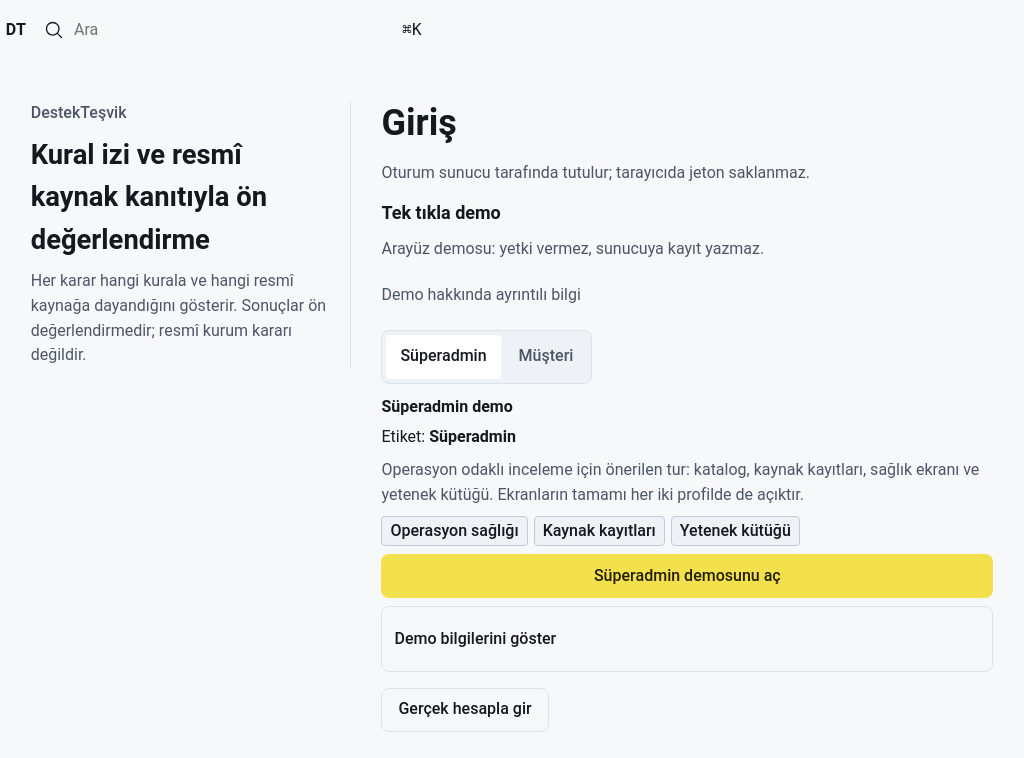
the login screen offers two named demo profiles › keeps the manual credential form reachable, behind the real-account control
Check: the field labelled "E-posta" is not shown
Click the button "Gerçek hesapla gir".
click(465, 710)  # box x1=381 y1=688 x2=549 y2=732
(page scrolled)
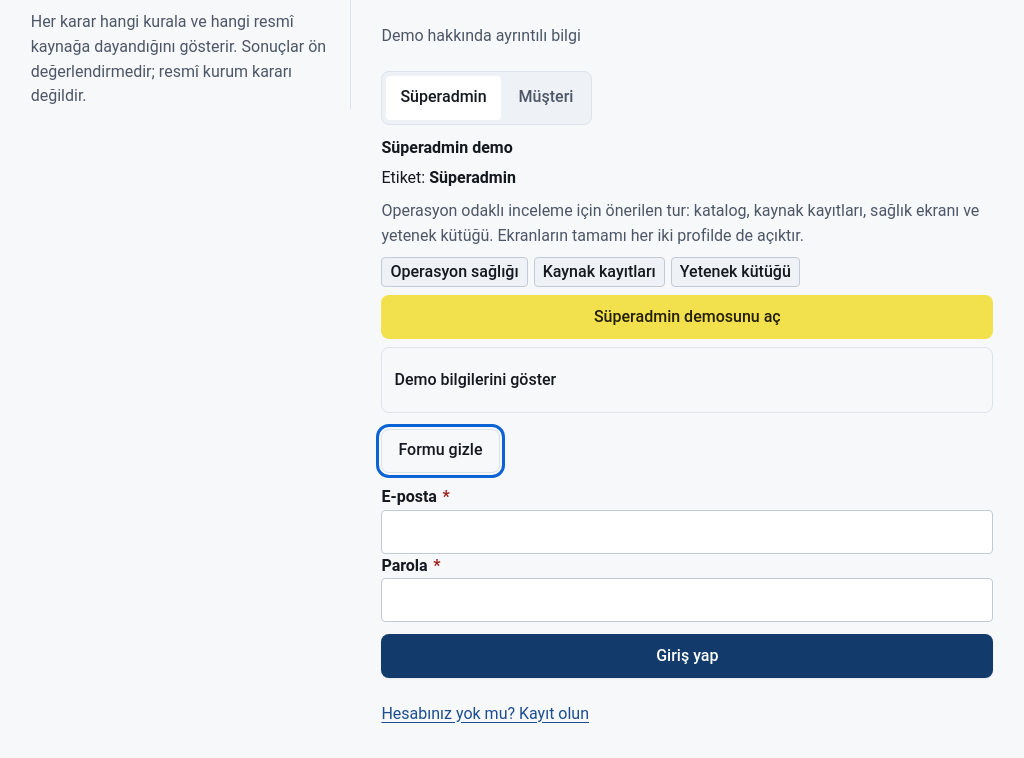
Check: the field labelled "E-posta *" is shown, box x1=381 y1=510 x2=993 y2=554
Check: the password field labelled "Parola *" is shown, box x1=381 y1=578 x2=993 y2=622
Check: the button "Giriş yap" is shown, box x1=381 y1=634 x2=993 y2=678
